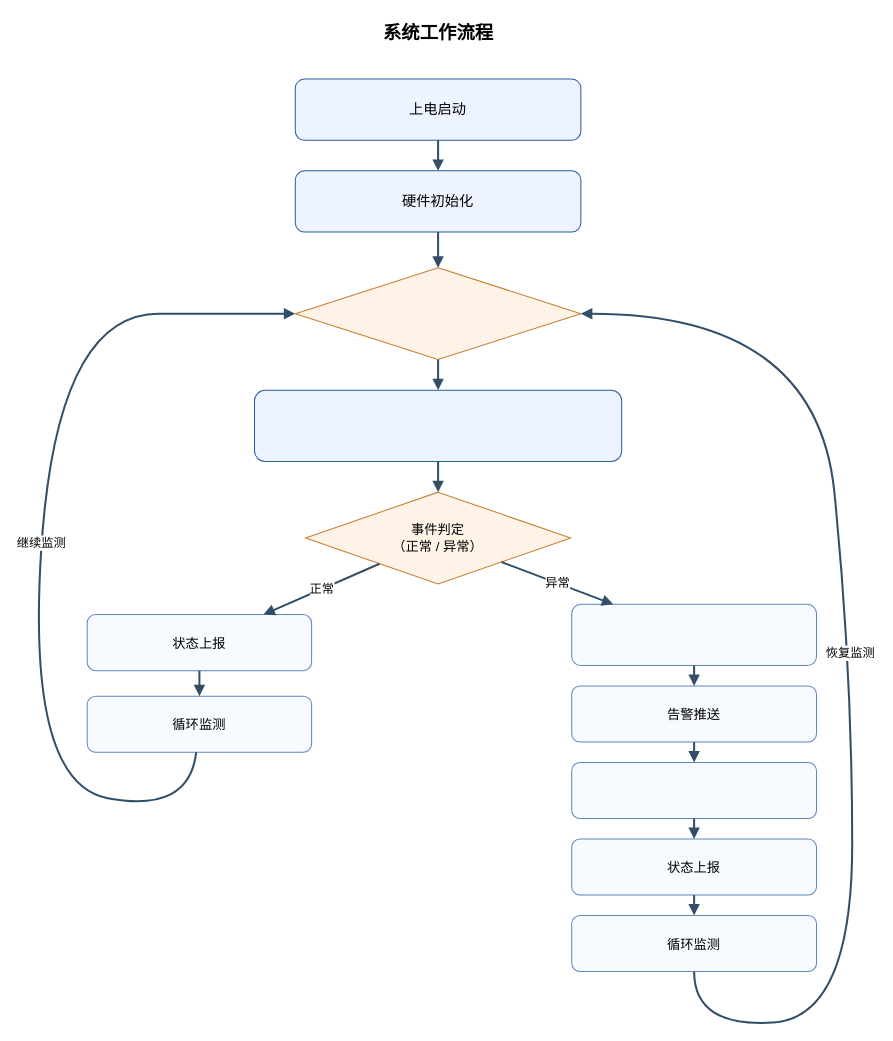
This 893x1041 diagram has some shape labels left out. Each missing label, with the centre of its shape:
多源数据采集 （指纹 / PIR / DHT / MQ-2 / 摄像头）: point (437, 425)
日志记录: point (694, 790)
联动执行 （门锁 / 蜂鸣器 / 燃气阀）: point (694, 634)
运行模式选择 （居家 / 布防 / 应急）: point (437, 313)
